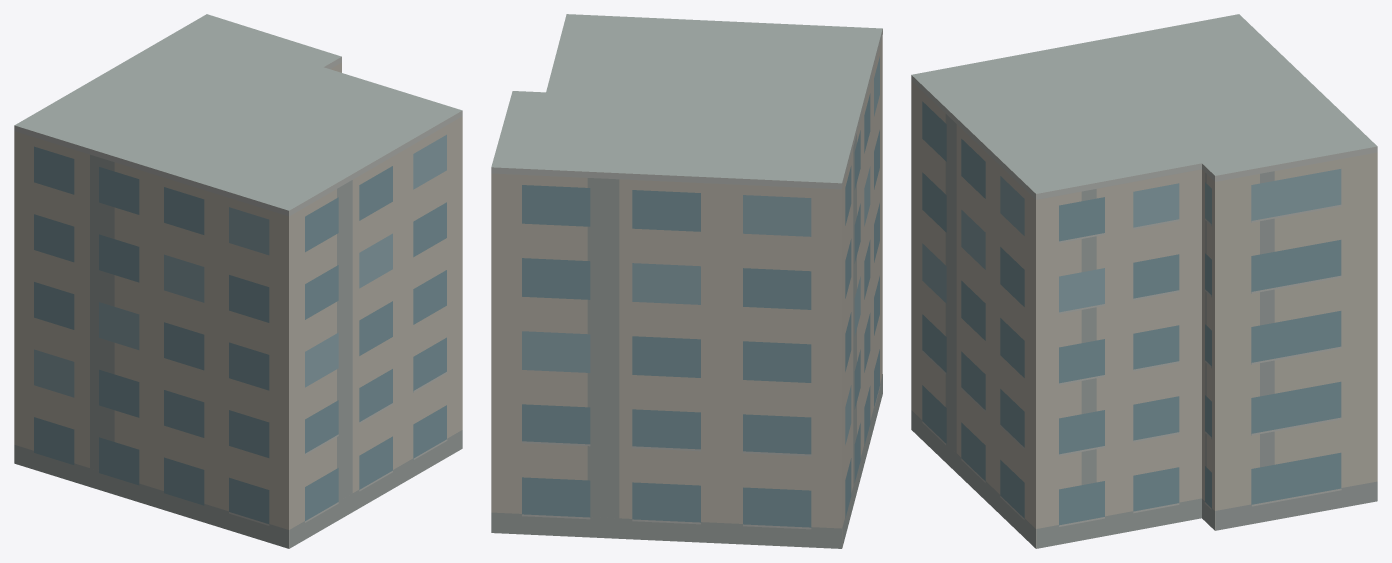
File: survey-upis-32761076.glb
3 views of the same model, side by side, from view 1: azimuth 30°, elevation 25°; view 2: azimuth 150°, elevation 25°; view 3: azimuth 270°, elevation 25° (orthographic). The views are drawn at different scales.
Visible parts, largest first — view 1: survey-upis-32761076.tmp; view 2: survey-upis-32761076.tmp; view 3: survey-upis-32761076.tmp.
Boxes of the visible parts, bbox=[...] form: survey-upis-32761076.tmp: bbox=[14, 14, 462, 548]; survey-upis-32761076.tmp: bbox=[491, 14, 882, 548]; survey-upis-32761076.tmp: bbox=[911, 14, 1377, 548].
Bounding box in the file's own units: 15.79 × 14.5 × 17.28.
